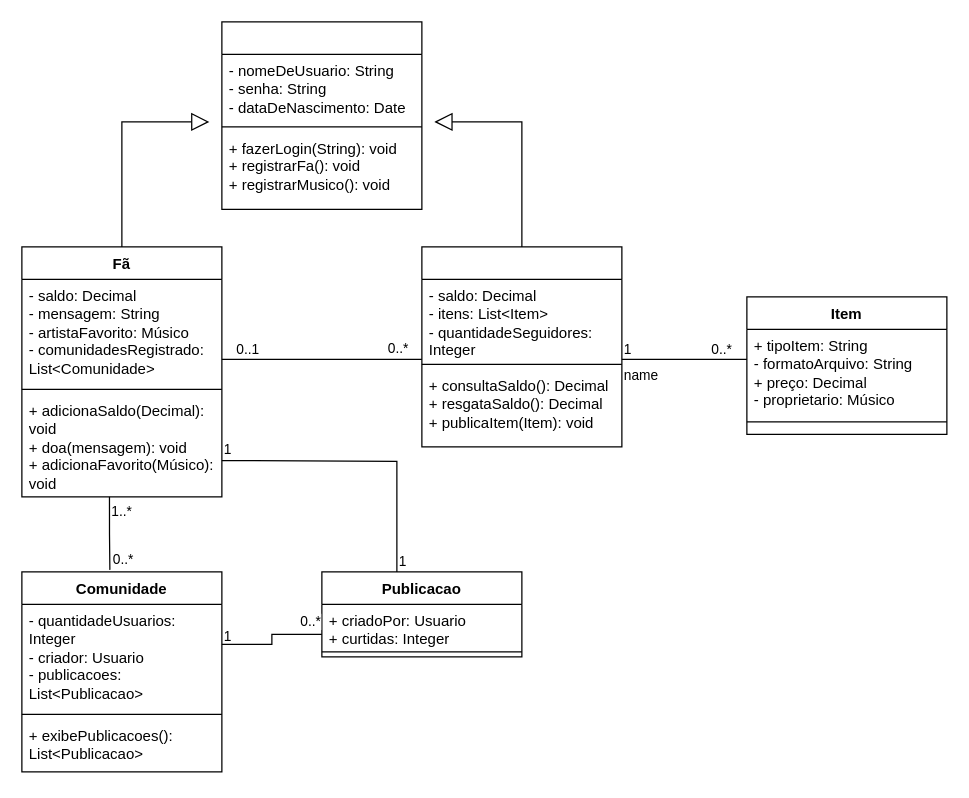
Some shapes in this 969 by 798 pixel diagram are drawn without their labels. Here are the shapes that lost their labels. From the top down, the box of each, then its label:
(221, 21, 422, 209): Usuário
(421, 246, 622, 447): Músico
